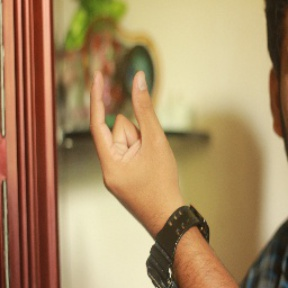U: (81, 63, 178, 197)
